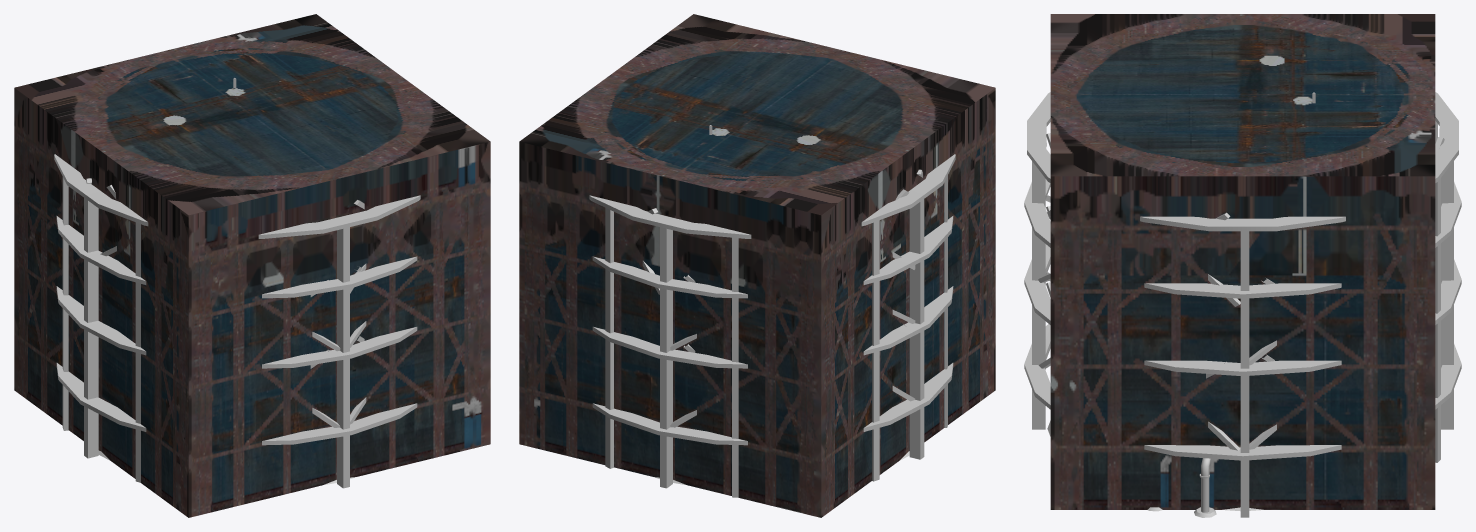
The model's file is dz_industrial_27.fbx.
3 views of the same model, side by side, from view 1: azimuth 30°, elevation 25°; view 2: azimuth 150°, elevation 25°; view 3: azimuth 270°, elevation 25° (orthographic). The views are drawn at different scales.
Visible parts, largest first — view 1: dz_industrial_27_LOD0; view 2: dz_industrial_27_LOD0; view 3: dz_industrial_27_LOD0.
Boxes of the visible parts, x1,y1,x2,y2 form: dz_industrial_27_LOD0: (14,14,490,517); dz_industrial_27_LOD0: (519,14,995,517); dz_industrial_27_LOD0: (1024,14,1461,517).
Size of what is drawn, in the model's own units: 19.78 by 17.14 by 19.78.
